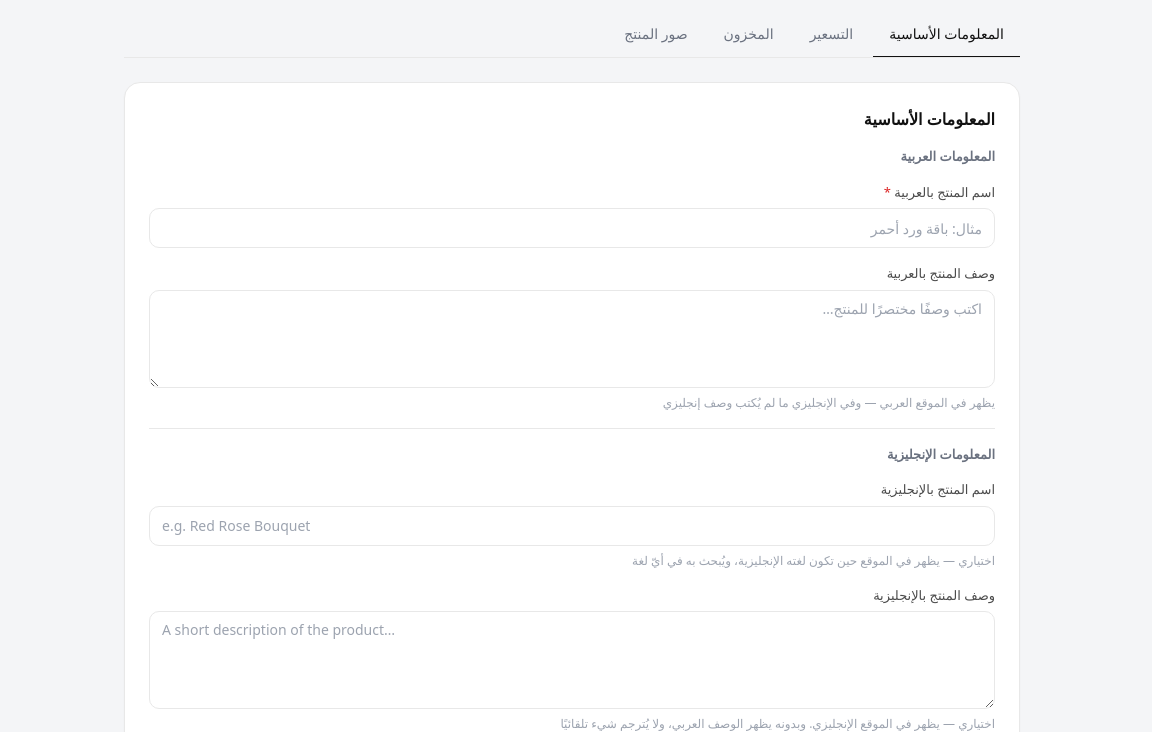
Scenario: ربطُ المنتج بالمخزون › إطفاؤه يُخفي الكميّةَ وحدَّها ويقول ما يترتّب
What coordinates should you click on to do the following:
click the tab "المخزون"
I would click on:
 (749, 35)
Its box is [708,12,790,58].
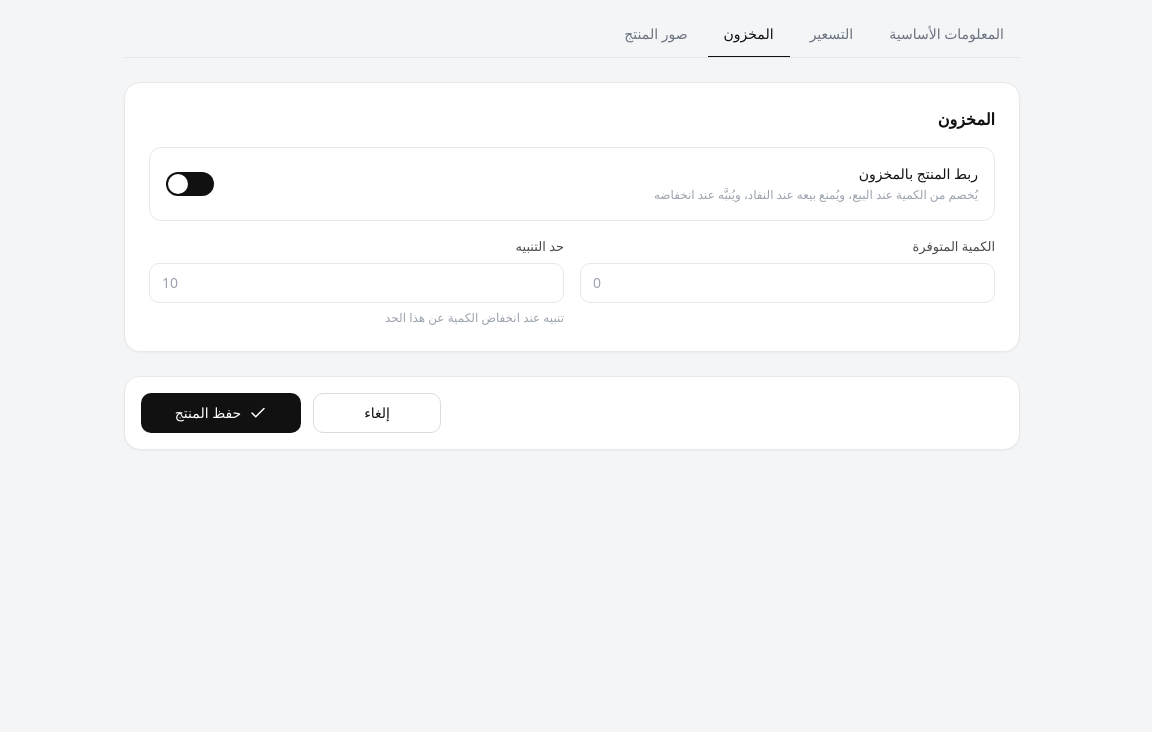
What coordinates should you click on to do the following:
click the switch named "ربط المنتج بالمخزون"
I would click on:
 (190, 184)
Its box is [166,172,214,196].
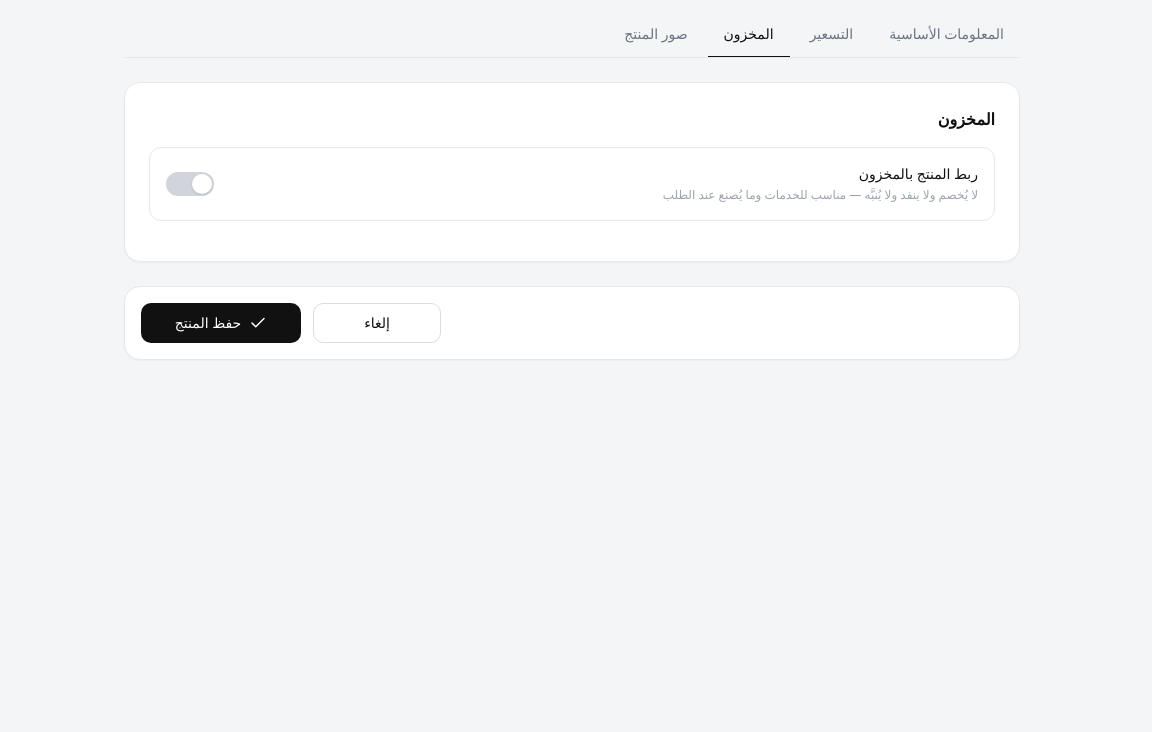
expect the text "الكمية المتوفرة" is gone: met
expect the text "حد التنبيه" is gone: met
expect the text "لا يُخصم ولا ينفد ولا يُنبَّه" is shown: met, box [663,186,978,203]
